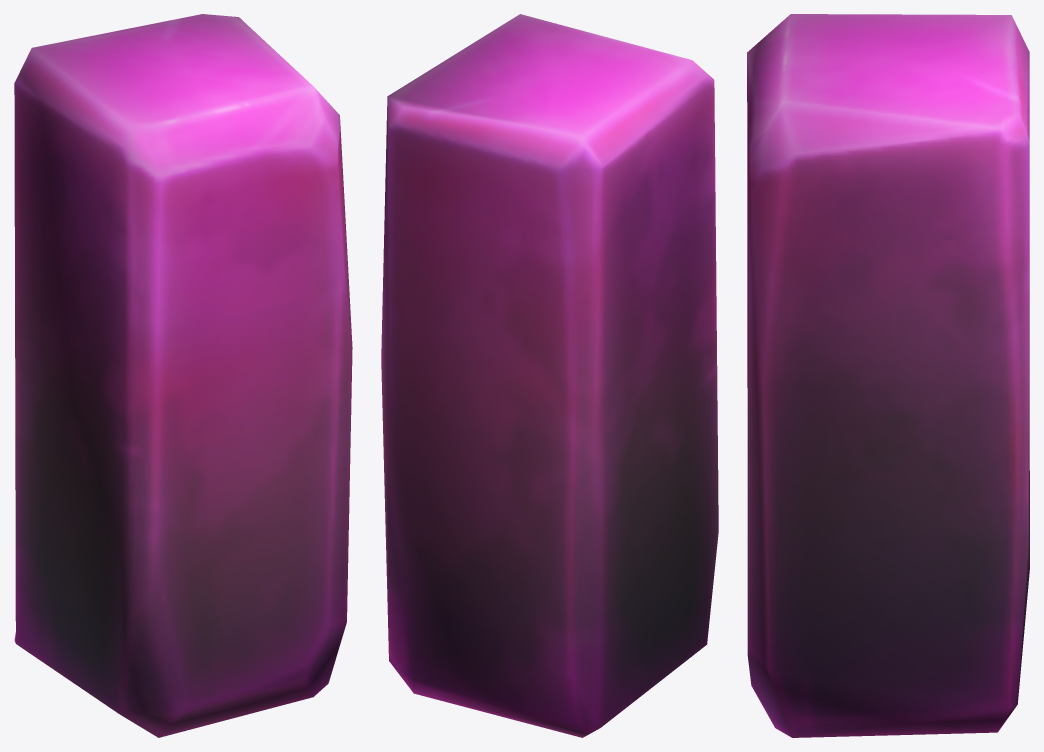
File: SM_Gem_Kunzite_004.fbx
3 views of the same model, side by side, from view 1: azimuth 30°, elevation 25°; view 2: azimuth 150°, elevation 25°; view 3: azimuth 270°, elevation 25° (orthographic). The views are drawn at different scales.
Visible parts, largest first — view 1: SM_Gem_Kunzite_004; view 2: SM_Gem_Kunzite_004; view 3: SM_Gem_Kunzite_004.
Part boxes in pixels (x1,y1,x2,y2): SM_Gem_Kunzite_004: [14, 14, 352, 737]; SM_Gem_Kunzite_004: [381, 14, 718, 737]; SM_Gem_Kunzite_004: [747, 14, 1029, 737].
Size of the model in its own units: 14.89 by 38.91 by 15.85.
